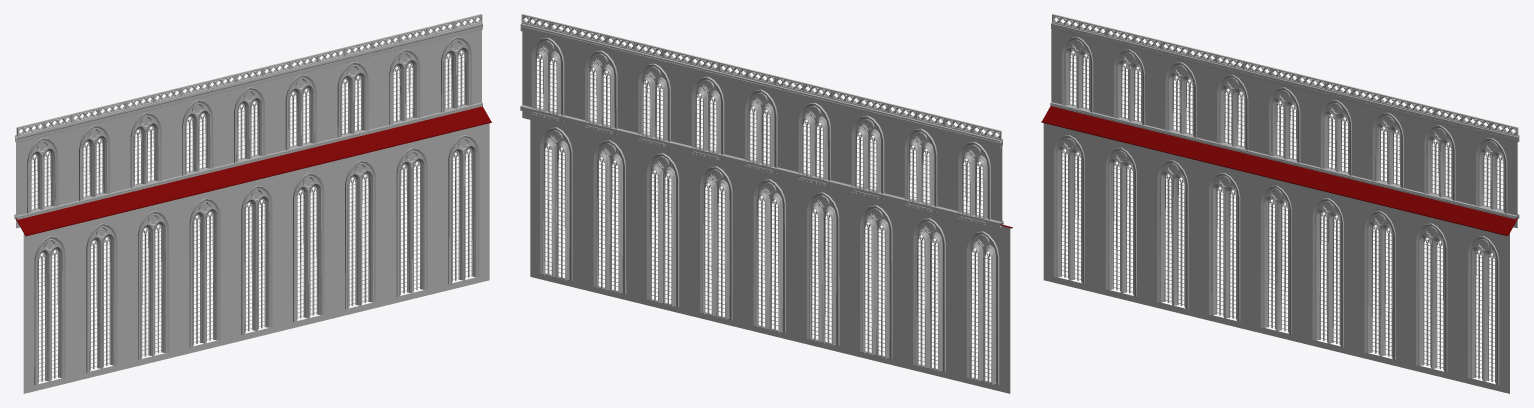
Rendered from hall_003.glb.
3 renders of one model, left to right at view 1: azimuth 30°, elevation 25°; view 2: azimuth 150°, elevation 25°; view 3: azimuth 330°, elevation 25°, orthographic. The views are drawn at different scales.
Visible parts, largest first — view 1: hall_003; view 2: hall_003; view 3: hall_003.
Boxes of the visible parts, left/top/right/bottom form: hall_003: left=14, top=14, right=491, bottom=393; hall_003: left=520, top=14, right=1012, bottom=393; hall_003: left=1041, top=14, right=1519, bottom=393.
Bounding box in the file's own units: 5.89 × 3.14 × 0.2688.
